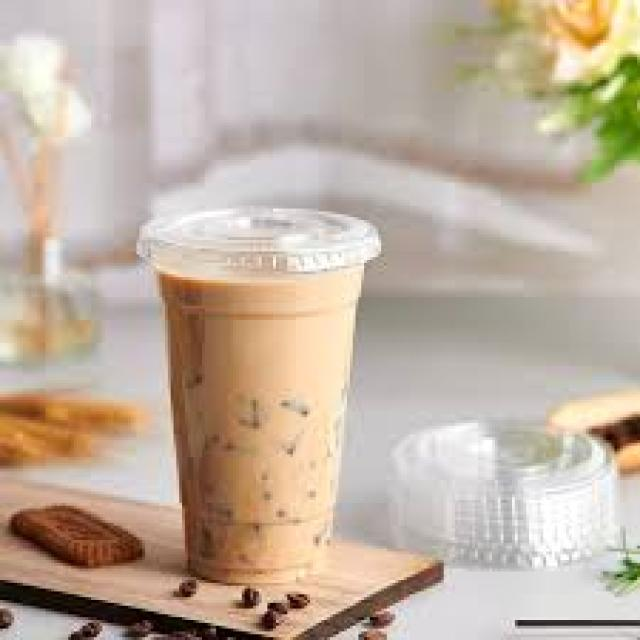bottle: (140, 208, 379, 583)
